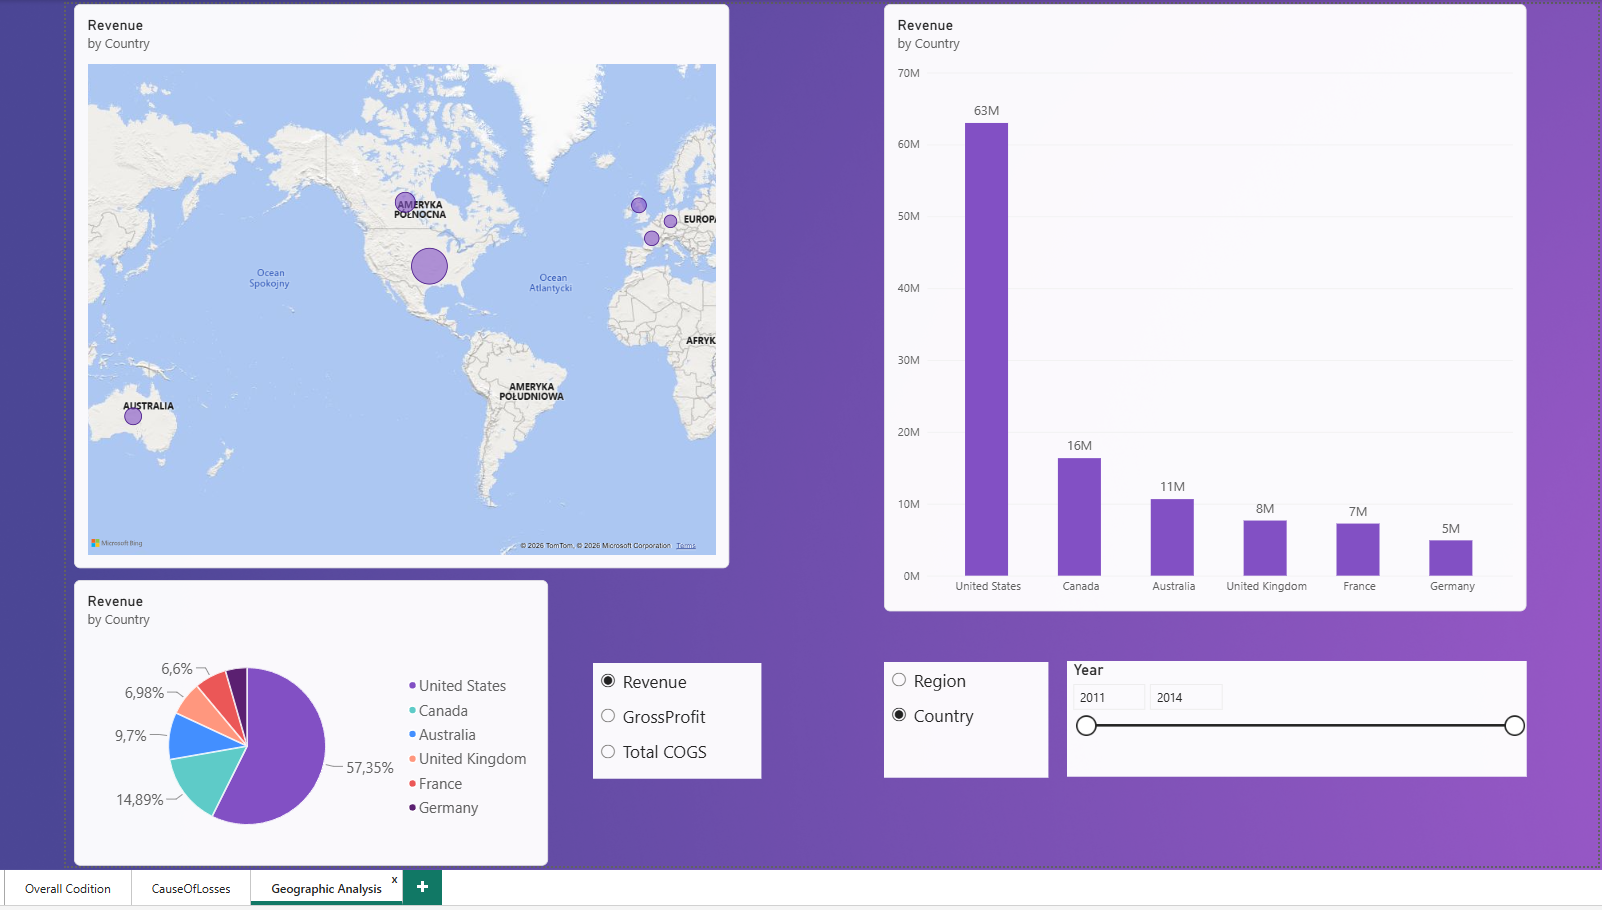

The page's visual inventory and layout, read from the dashboard file:
{"tool":"powerbi","page":{"name":"Geographic Analysis","canvas":[1920,1080],"ordinal":1},"visuals":[{"type":"map","title":"Revenue","fields":{"Size":["_Measures.Revenue"],"X":["DimTerritory.Longitude"],"Y":["DimTerritory.Latitude"]},"box":[9.4,0,821.4,707],"z":0},{"type":"columnChart","fields":{"Category":["DimTerritory.Country"],"Y":["_Measures.Revenue"]},"box":[1025,0,805,761.2],"z":1000},{"type":"slicer","fields":{"Values":["DateTable.Year"]},"box":[1253.8,823.8,576.2,145],"z":2000},{"type":"slicer","fields":{"Values":["Parameter.Parameter"]},"box":[1024.8,824.1,206,145.4],"z":3000},{"type":"slicer","fields":{"Values":["Parameter 2.Parameter"]},"box":[659.9,825.5,211.4,145.4],"z":4000},{"type":"pieChart","fields":{"Category":["DimTerritory.Country"],"Y":["_Measures.Revenue"]},"box":[9.4,721.8,593.9,358.2],"z":5000}]}

Visuals, with their boxes in screenshot pixels (x1, y1, x2, y2):
"Revenue" map: detection(74, 0, 726, 561)
columnChart - DimTerritory.Country x _Measures.Revenue: detection(880, 0, 1519, 604)
slicer - DateTable.Year: detection(1062, 654, 1519, 769)
slicer - Parameter.Parameter: detection(880, 654, 1044, 769)
slicer - Parameter 2.Parameter: detection(590, 655, 758, 771)
pieChart - DimTerritory.Country x _Measures.Revenue: detection(74, 573, 546, 857)
